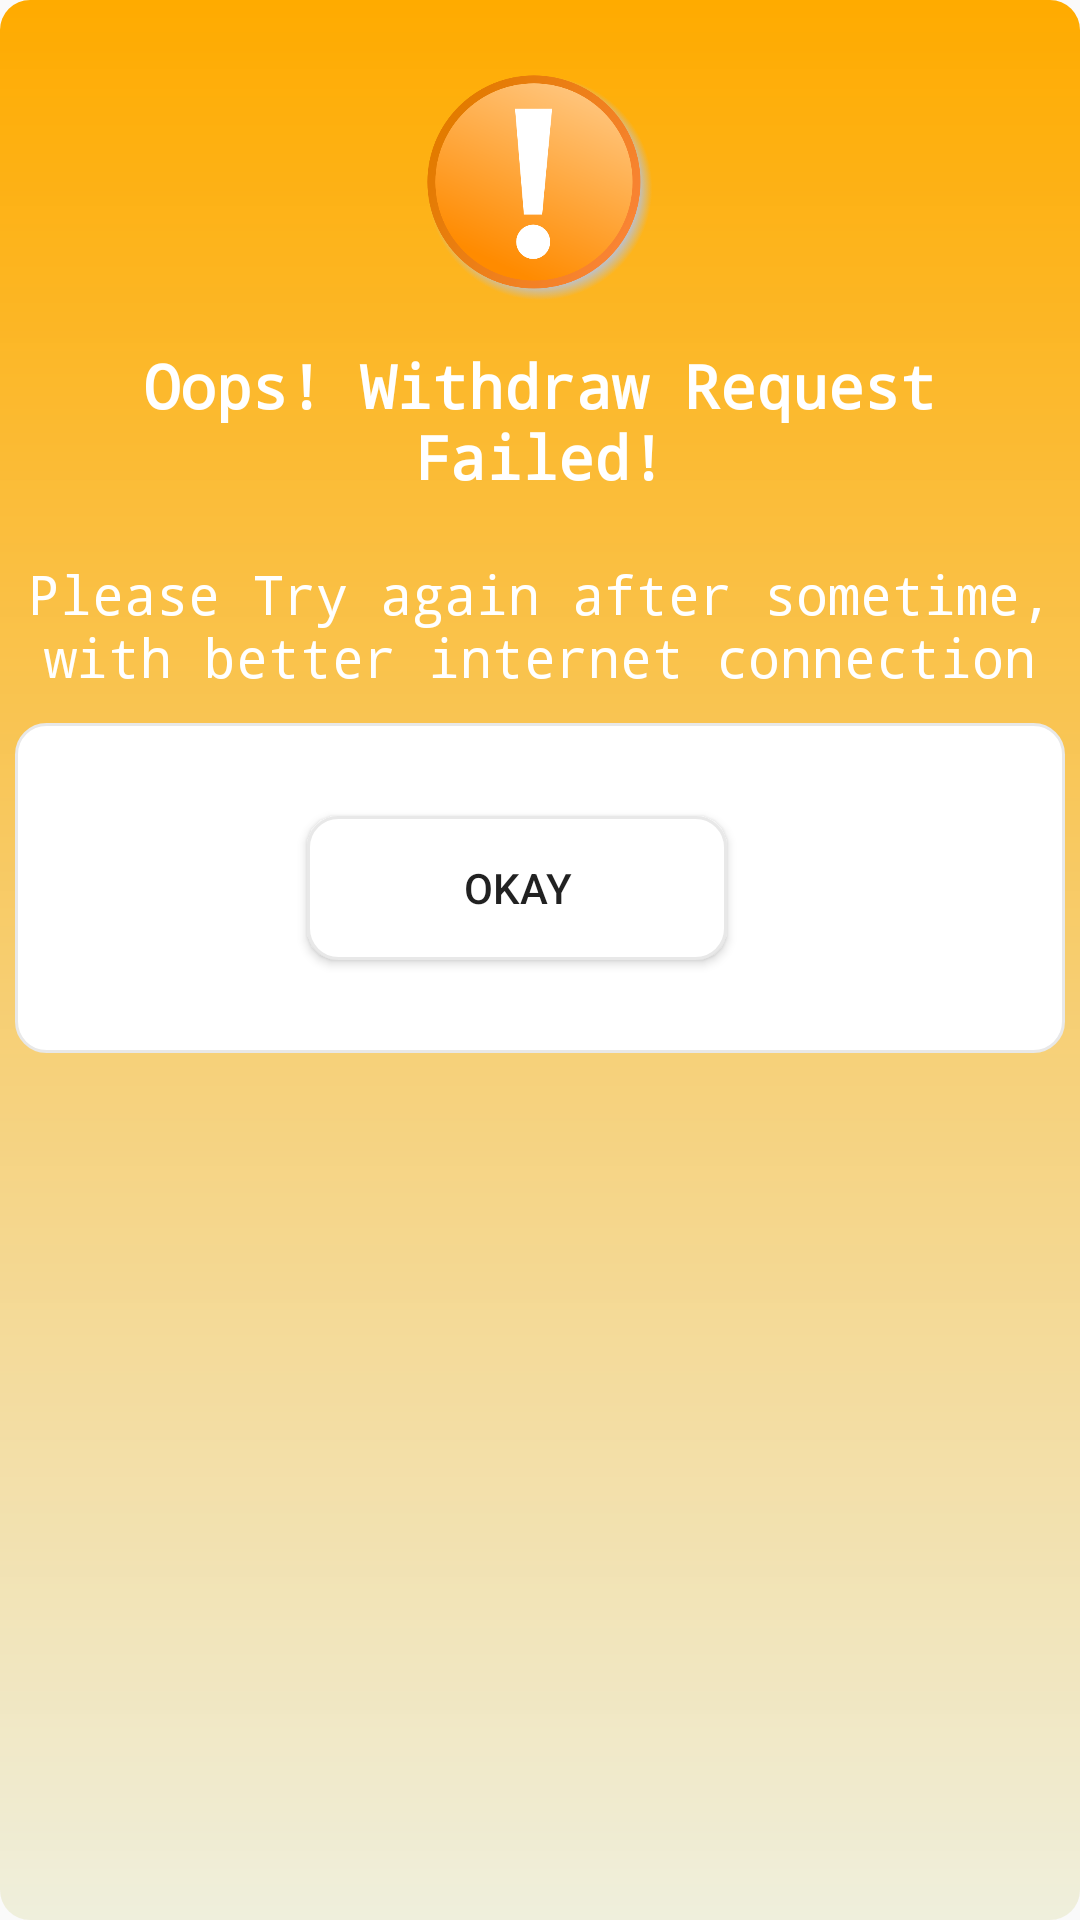

Icons on this 1080×1920 Android screen, each with the point to tap as [x,y]:
warning: [539,187]
